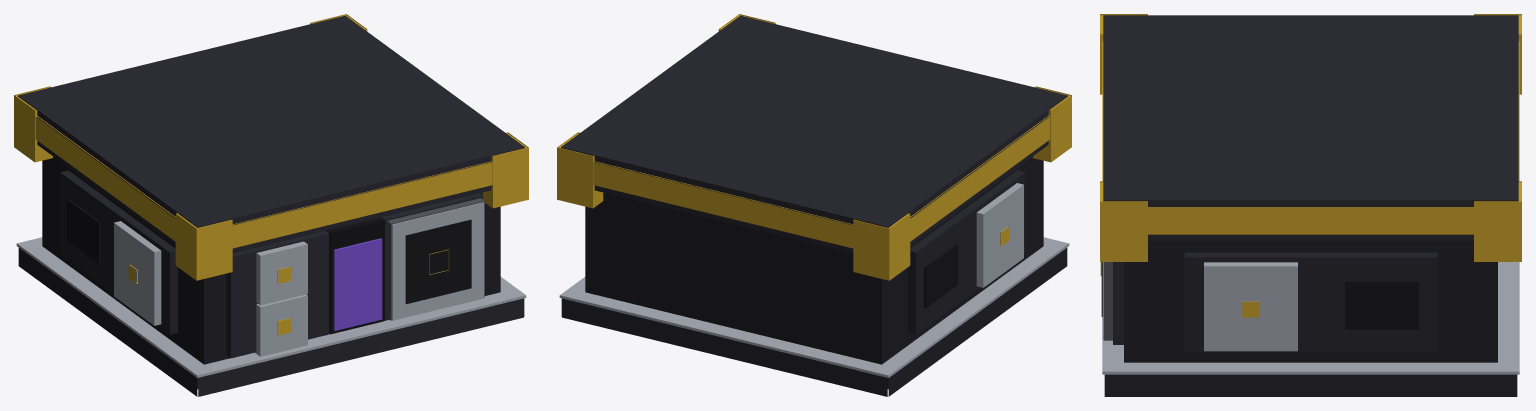
The model's file is GoldenMicSil.fbx.
The picture shows the model from 3 angles, left to right: view 1: azimuth 30°, elevation 25°; view 2: azimuth 150°, elevation 25°; view 3: azimuth 270°, elevation 25°; orthographic projection. The views are drawn at different scales.
Parts seen in each view (by area): view 1: GM_S_All; view 2: GM_S_All; view 3: GM_S_All.
Boxes of the visible parts, x1,y1,x2,y2 form: GM_S_All: (14,14,528,396); GM_S_All: (557,14,1071,396); GM_S_All: (1100,14,1521,396).
Size of the model in its own units: 40.64 by 20 by 38.64.
